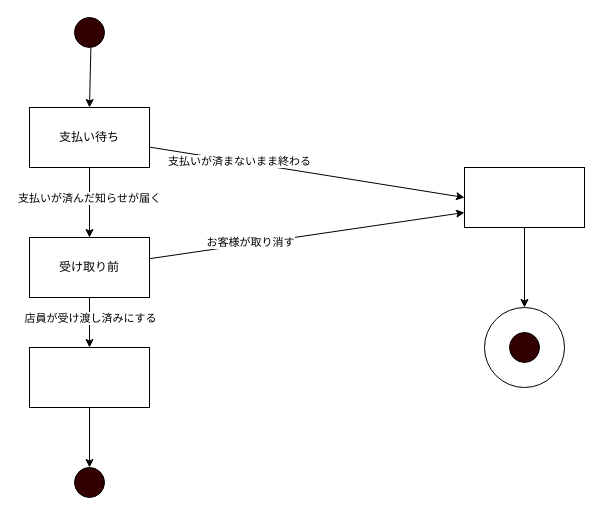
This 602x515 diagram has some shape labels left out. Each missing label, with the centre of its shape:
"取り消し済み" belongs at [524,197].
"受け渡し済み" belongs at [89,377].
